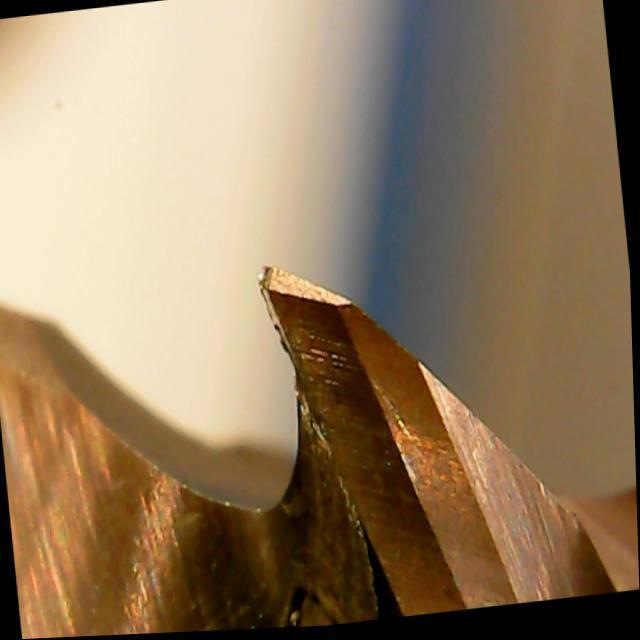Tool-wear-class-1: (249, 235, 444, 589)
